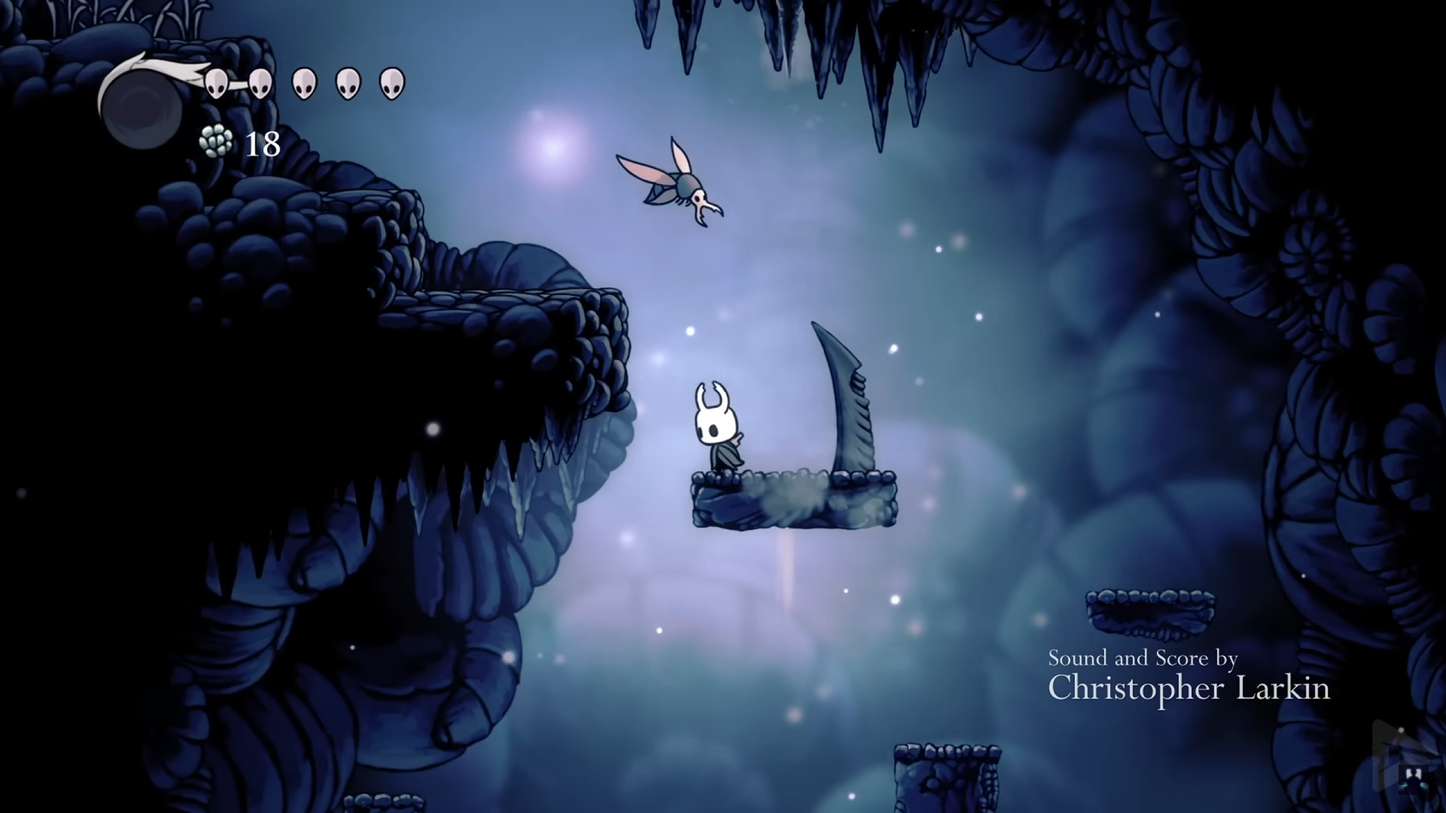HK: (691, 377, 749, 476)
